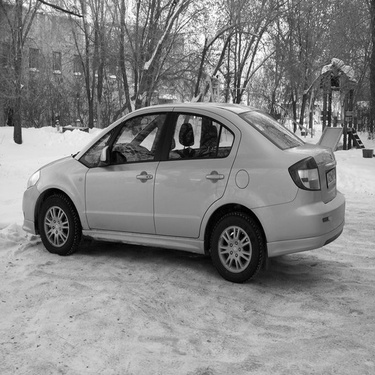car: (14, 92, 352, 283)
